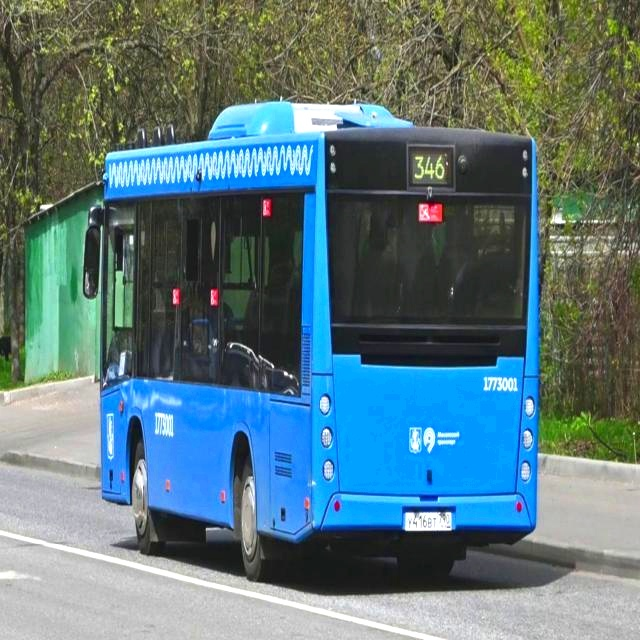bus: (54, 92, 582, 596)
